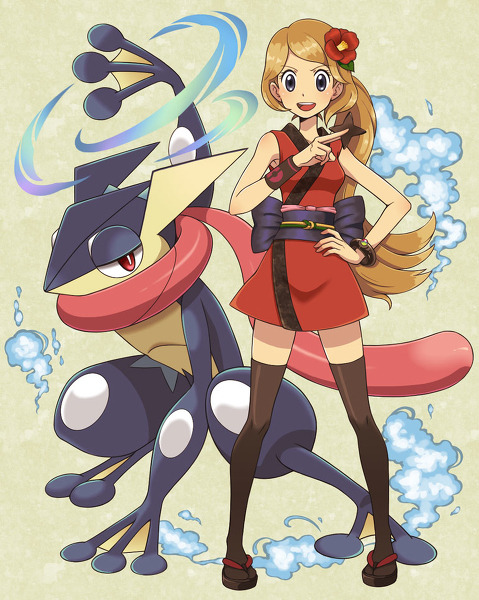greninja: (40, 21, 437, 570)
